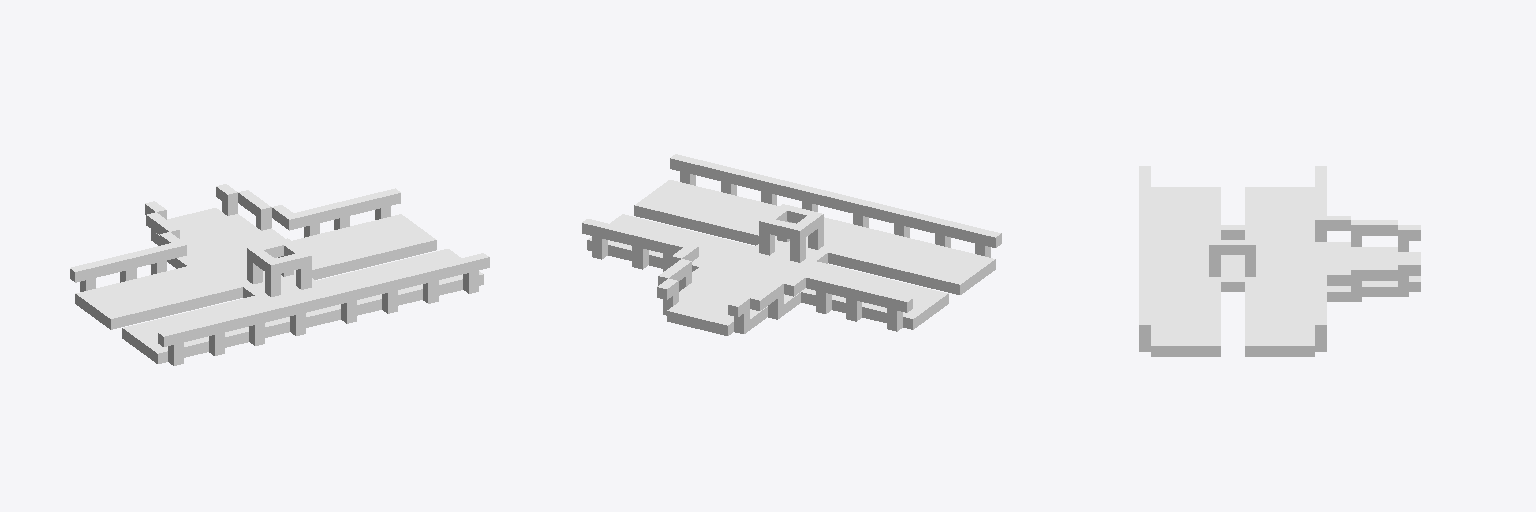
Rendered from roadForkAdapter.obj.
3 views of the same model, side by side, from view 1: azimuth 30°, elevation 25°; view 2: azimuth 150°, elevation 25°; view 3: azimuth 270°, elevation 25° (orthographic).
Parts seen in each view (by area): view 1: object 1; view 2: object 1; view 3: object 1.
Boxes of the visible parts, box(x1,y1,x2,y2) form: object 1: box(70, 184, 489, 365); object 1: box(582, 154, 1001, 335); object 1: box(1139, 166, 1420, 356).
Bounding box in the file's own units: 3.2 × 0.4 × 2.4.